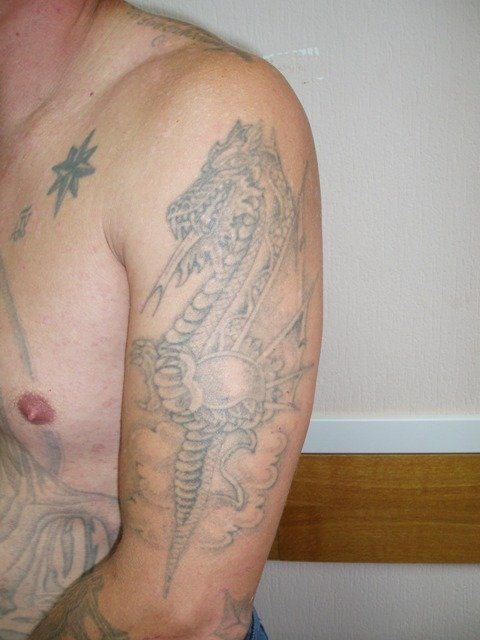tatu6_drakon: (112, 94, 359, 601)
